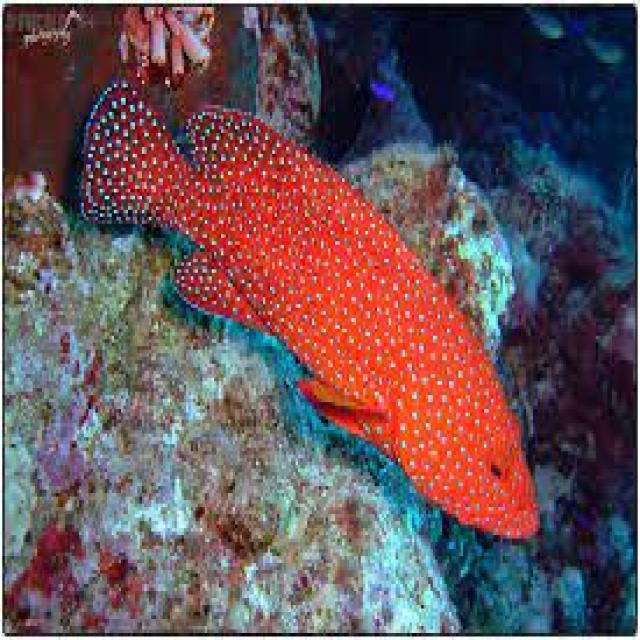Leopard coral grouper: (72, 59, 548, 551)
